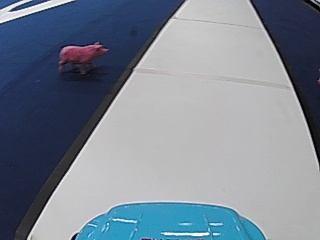pig: (56, 38, 108, 74)
